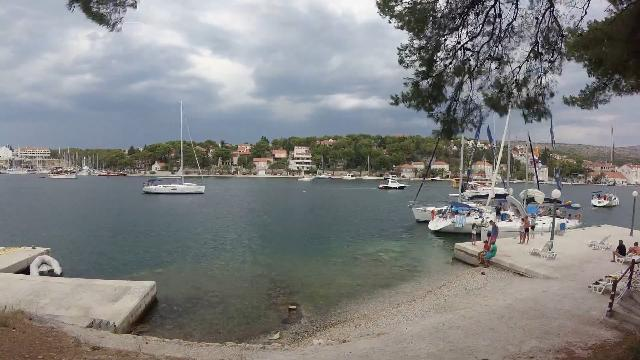Freighter: (46, 163, 80, 181)
Sailboat: (140, 172, 208, 198)
speedboat: (376, 175, 412, 193), (294, 172, 314, 184)
